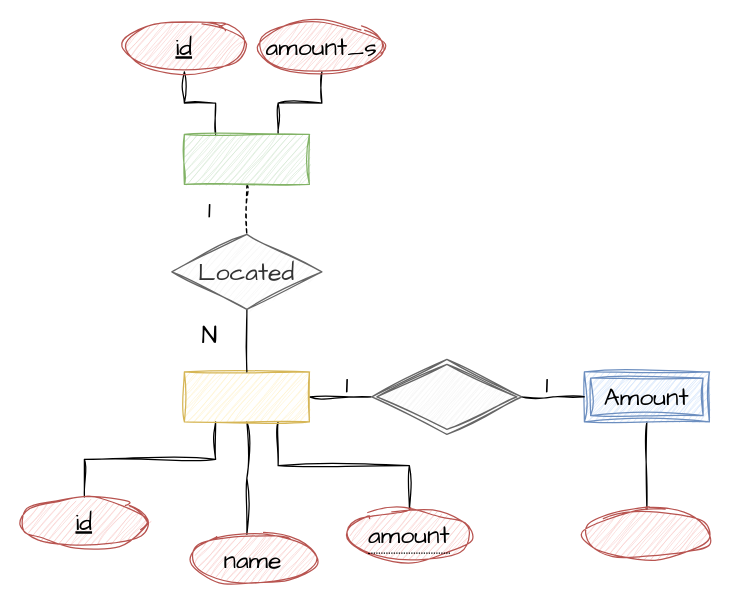
Some shapes in this 731 by 606 pixel diagram are drawn without their labels. The centre of each missing label's shape, as x and y in pixels:
Contains: the point at 446,396
Country: the point at 246,158
Sanctuary: the point at 246,396
unities: the point at 646,533
